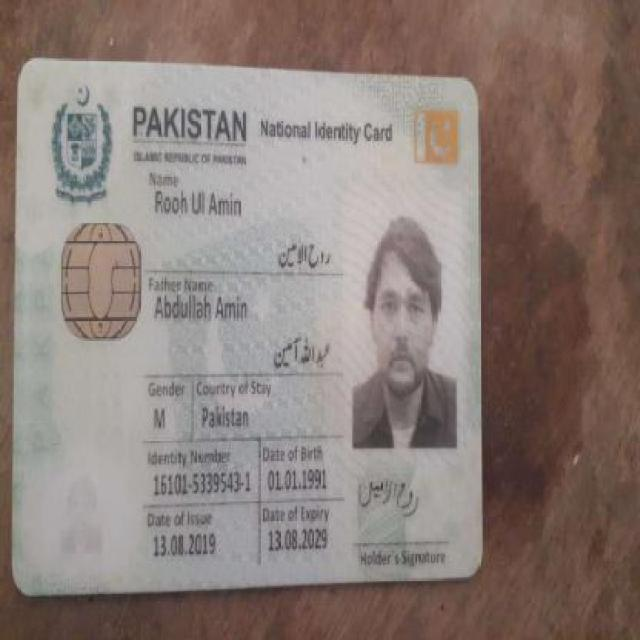Front: (9, 51, 488, 595)
